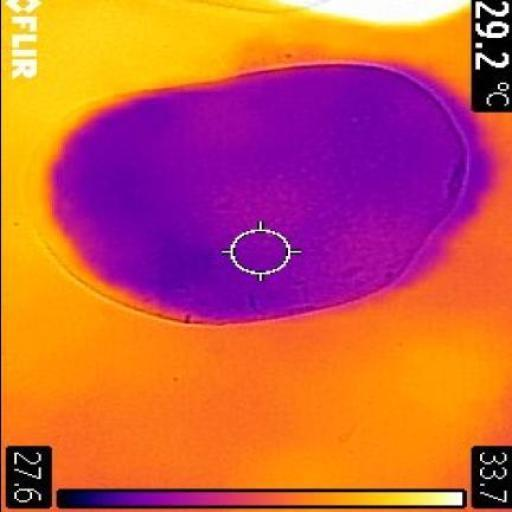alphanso: (26, 61, 472, 319)
